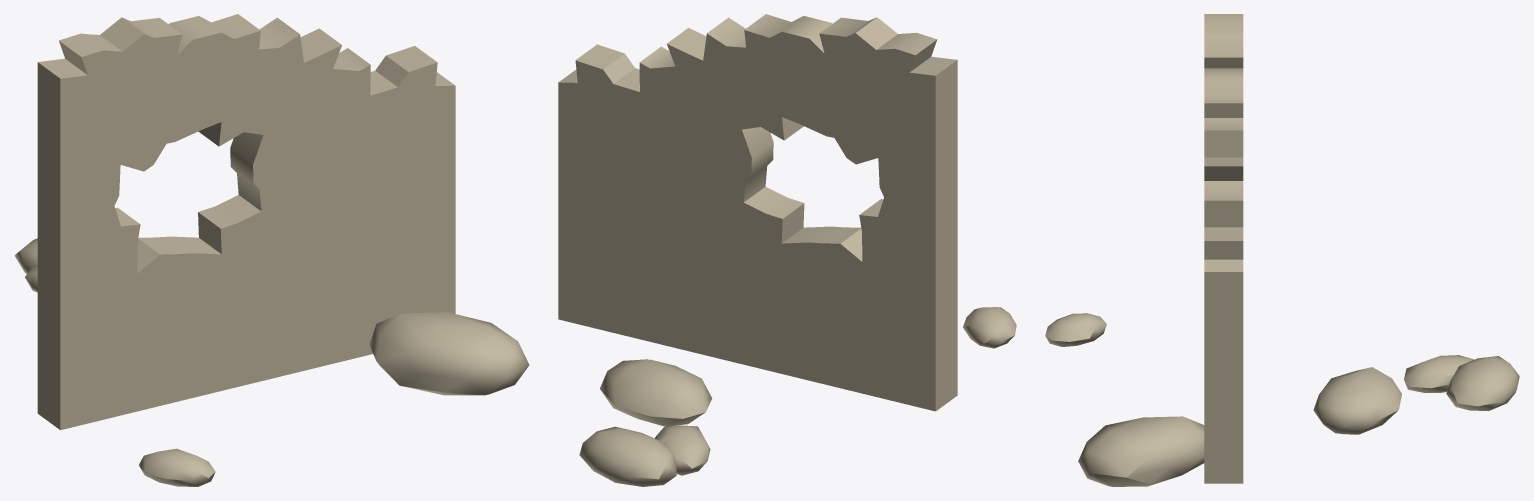
The model's file is wand_1x1_kaputt.glb.
3 renders of one model, left to right at view 1: azimuth 30°, elevation 25°; view 2: azimuth 150°, elevation 25°; view 3: azimuth 270°, elevation 25°, orthographic. The views are drawn at different scales.
Visible parts, largest first — view 1: wand_1x1_kaputt; view 2: wand_1x1_kaputt; view 3: wand_1x1_kaputt.
Boxes of the visible parts, x1,y1,x2,y2 form: wand_1x1_kaputt: [14, 14, 529, 486]; wand_1x1_kaputt: [558, 14, 1016, 486]; wand_1x1_kaputt: [1045, 14, 1519, 486].
Size of the model in its own units: 1.05 by 0.9469 by 1.22.
